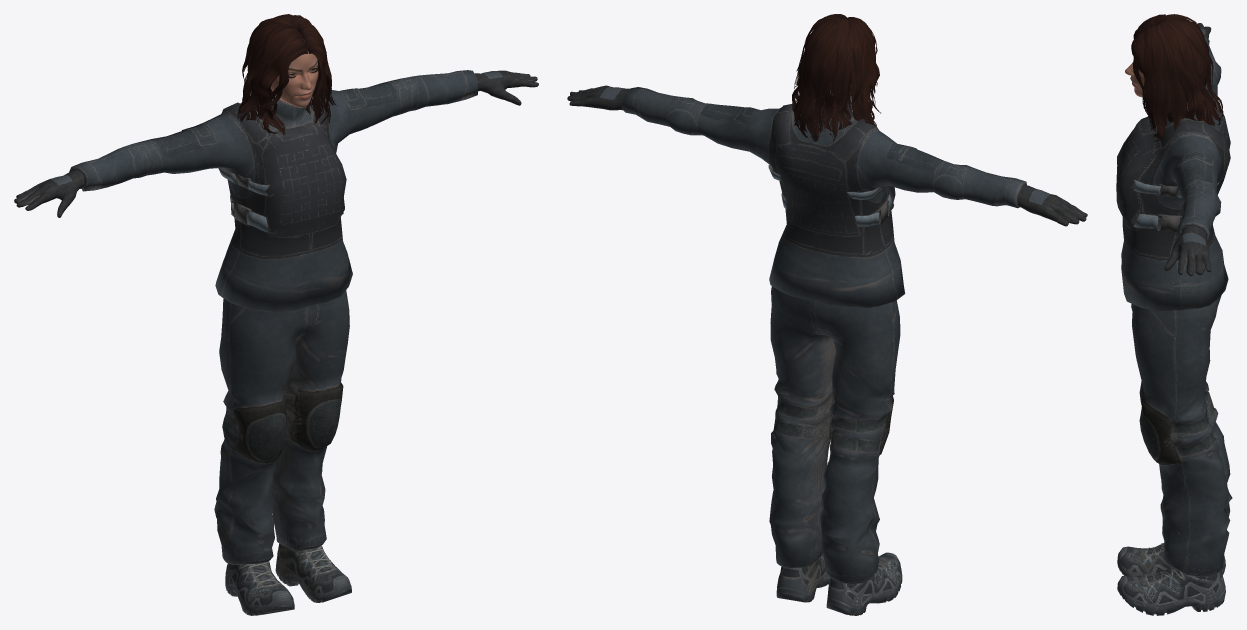
File: DaniCommander-OBJ.obj
3 renders of one model, left to right at view 1: azimuth 30°, elevation 25°; view 2: azimuth 150°, elevation 25°; view 3: azimuth 270°, elevation 25°, orthographic.
Visible parts, largest first — view 1: Tops, Bottoms, Hair, Shoes, Gloves, Body; view 2: Tops, Bottoms, Hair, Shoes, Gloves; view 3: Bottoms, Tops, Hair, Shoes, Gloves, Body.
Boxes of the visible parts, x1=… form: Tops: x1=69, y1=70, x2=478, y2=312; Bottoms: x1=214, y1=290, x2=349, y2=564; Hair: x1=237, y1=14, x2=336, y2=135; Shoes: x1=225, y1=543, x2=351, y2=615; Gloves: x1=14, y1=70, x2=538, y2=217; Body: x1=271, y1=39, x2=318, y2=107; Tops: x1=622, y1=87, x2=1026, y2=307; Bottoms: x1=769, y1=286, x2=900, y2=584; Hair: x1=792, y1=14, x2=880, y2=142; Shoes: x1=776, y1=552, x2=902, y2=615; Gloves: x1=567, y1=85, x2=1087, y2=226; Bottoms: x1=1131, y1=295, x2=1232, y2=576; Tops: x1=1116, y1=34, x2=1230, y2=310; Hair: x1=1131, y1=14, x2=1223, y2=141; Shoes: x1=1117, y1=532, x2=1225, y2=615; Gloves: x1=1164, y1=23, x2=1211, y2=276; Body: x1=1125, y1=62, x2=1183, y2=97.
Size of the model in its own units: 158 by 168 by 30.78.
6 materials, 6 textured.
